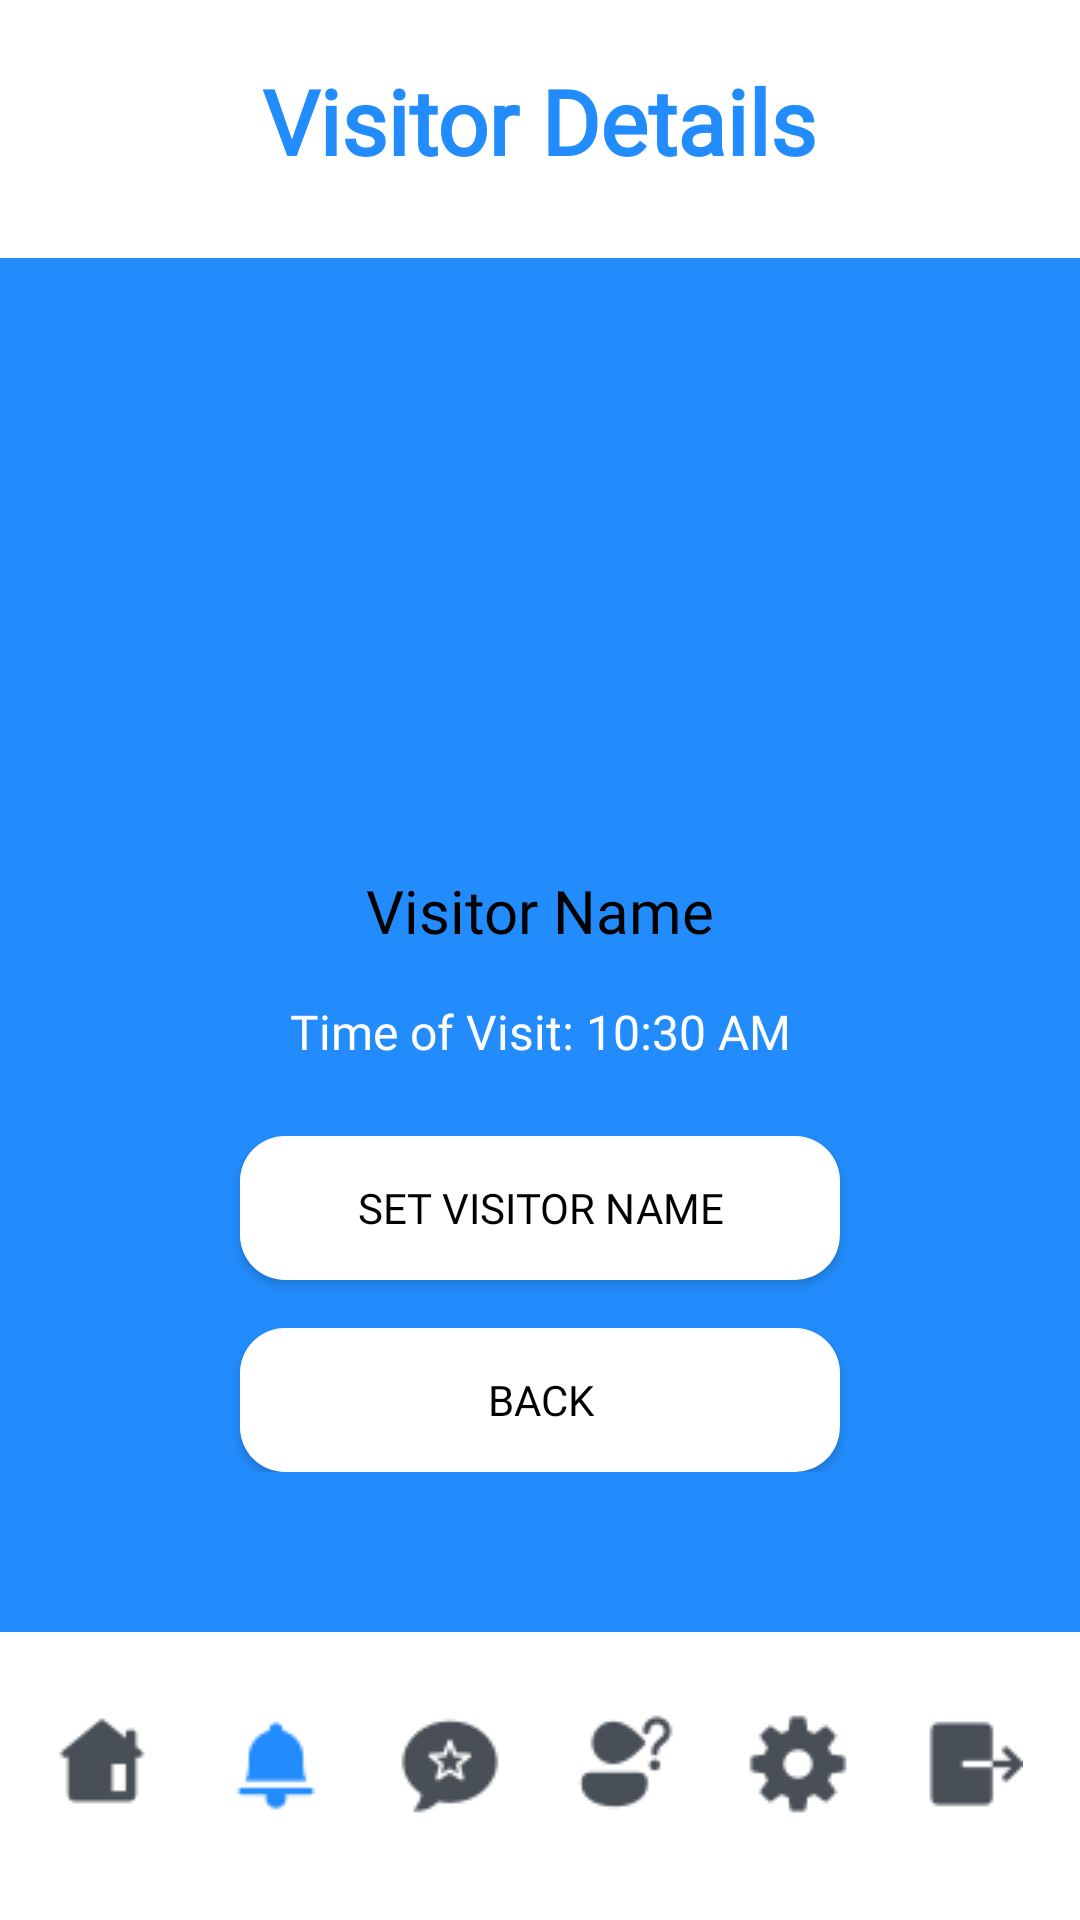

Screen size 1080×1920. Icon name, then its center in pixels as (x=x, y=y):
doorbellblue: (x=276, y=1765)
feedback: (x=450, y=1766)
helpcenter: (x=626, y=1761)
home: (x=102, y=1761)
settings: (x=798, y=1764)
